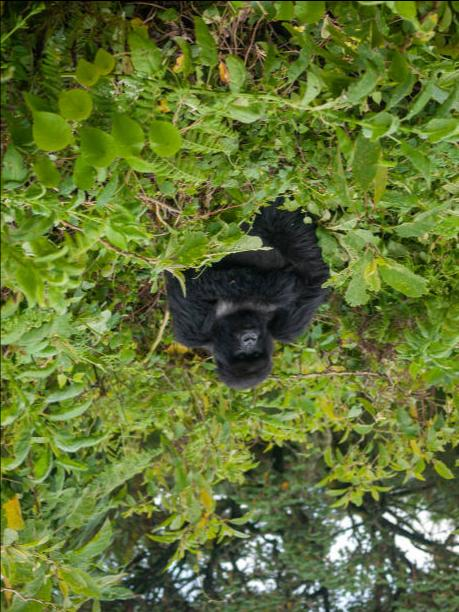goriile_montagne: (146, 221, 339, 400)
